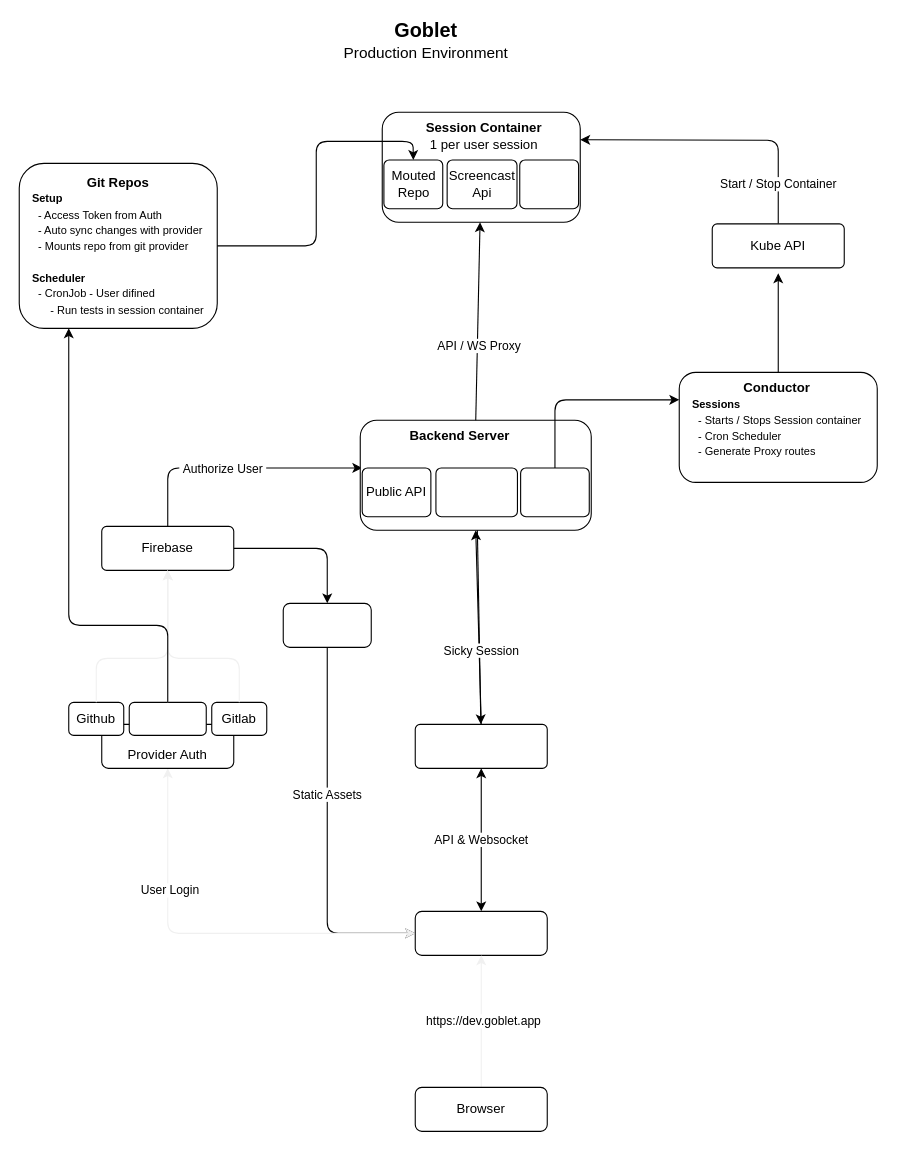
Image size: 897x1151. Some labels were removed from this diagram. The box of each missing label's shape, as (x1, y1, x2, y2) in pixels:
BitBucket: (128, 701, 206, 735)
CDN: (282, 602, 371, 647)
Conductor: (520, 467, 589, 517)
Frontend UI: (414, 910, 547, 955)
Load Balancer: (414, 723, 547, 768)
NoVNC Browser: (519, 159, 579, 209)
Session Proxy: (435, 467, 517, 517)
